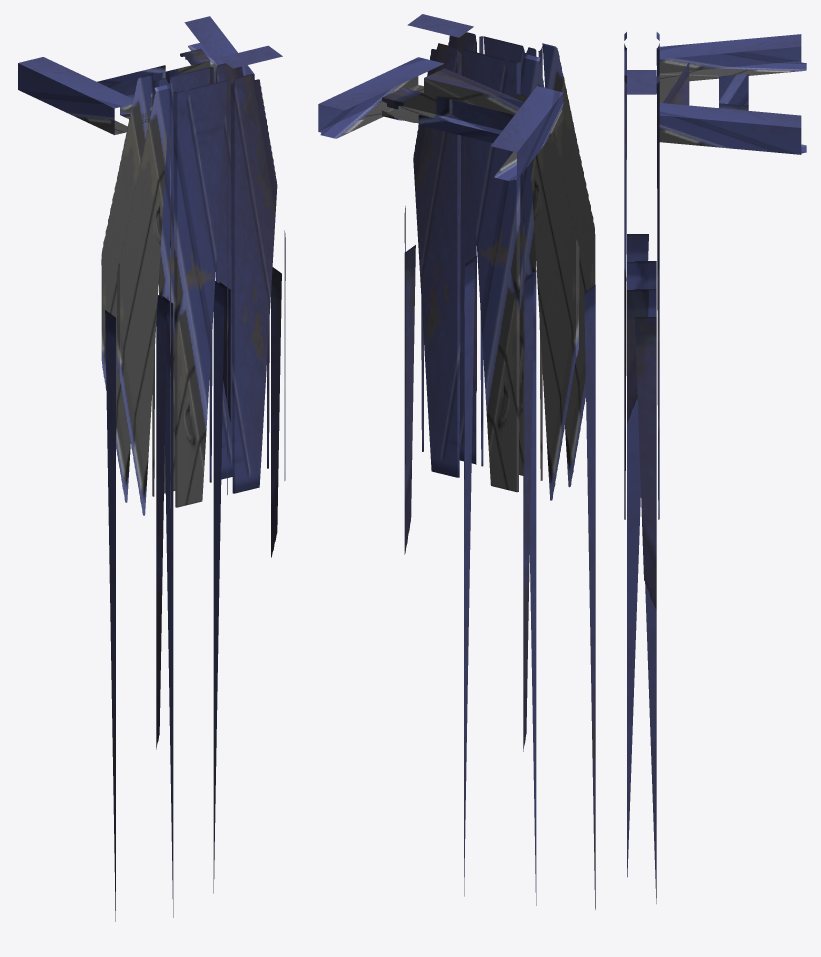
The picture shows the model from 3 angles, left to right: view 1: azimuth 30°, elevation 25°; view 2: azimuth 150°, elevation 25°; view 3: azimuth 270°, elevation 25°; orthographic projection. The views are drawn at different scales.
Bounding box in the file's own units: 0.4552 × 1.89 × 0.37.
